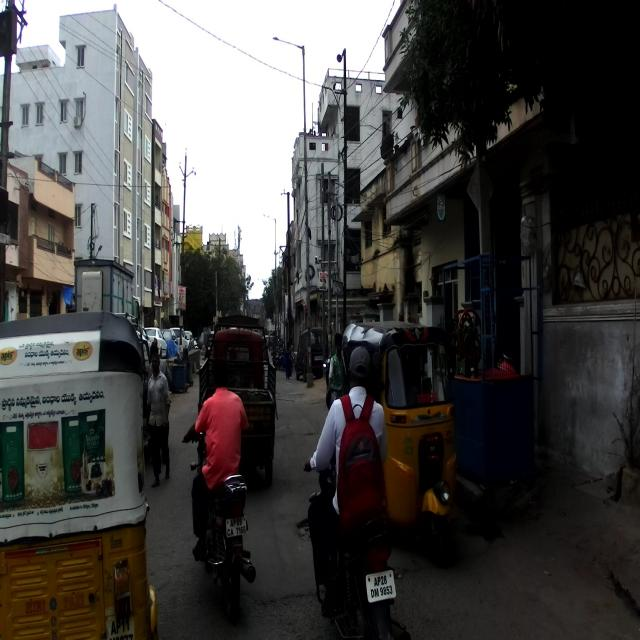autorickshaw: (0, 308, 156, 639), (338, 321, 458, 564), (195, 316, 278, 492)
motorcycle: (303, 455, 402, 638), (181, 428, 256, 610)
